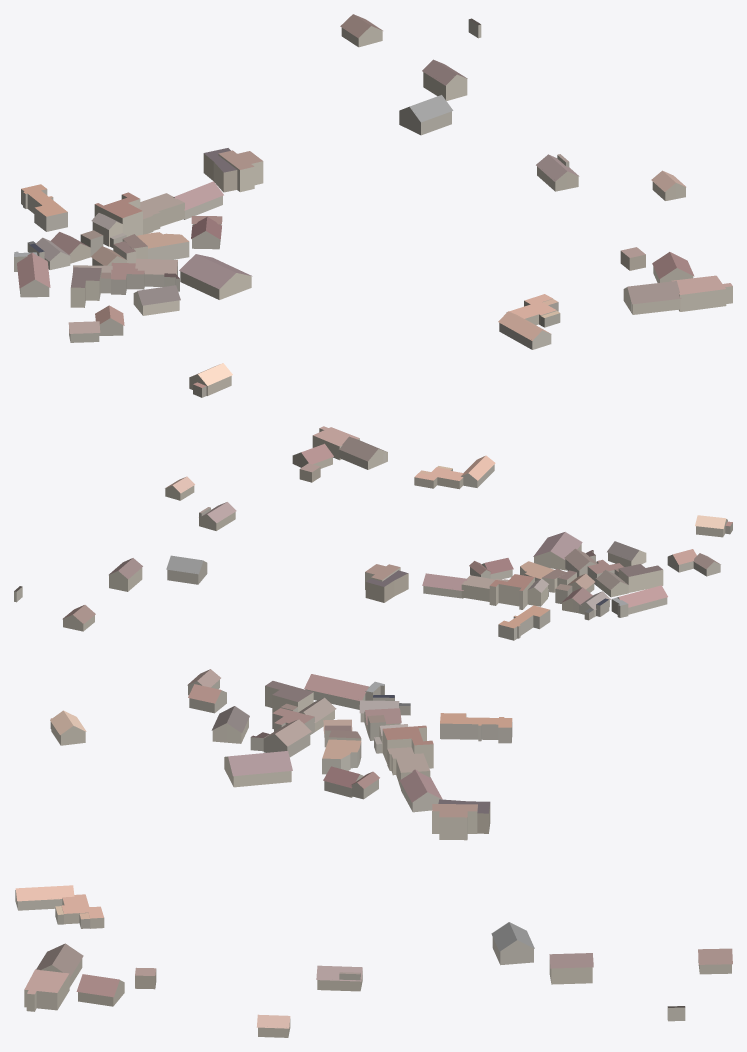
The picture shows the model from 3 angles, top to bottom: view 1: azimuth 30°, elevation 25°; view 2: azimuth 150°, elevation 25°; view 3: azimuth 270°, elevation 25°; orthographic projection. The views are drawn at different scales.
Visible parts, largest first — view 1: tuile; view 2: tuile; view 3: tuile.
Boxes of the visible parts, x1,y1,x2,y2 form: tuile: (14,14,732,397); tuile: (14,426,732,640); tuile: (15,669,732,1037).
Bounding box in the file's own units: 246 × 23.18 × 232.
